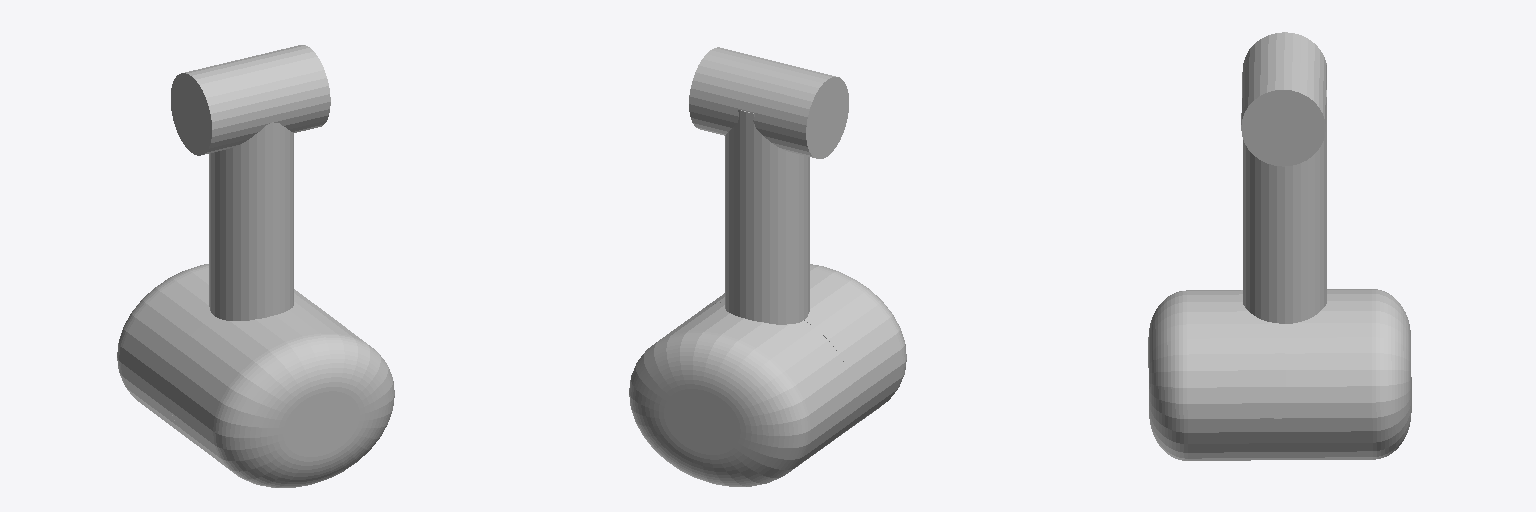
The model's file is block.obj.
The picture shows the model from 3 angles: view 1: azimuth 30°, elevation 25°; view 2: azimuth 150°, elevation 25°; view 3: azimuth 270°, elevation 25°; orthographic projection.
Parts seen in each view (by area): view 1: Cylinder; view 2: Cylinder; view 3: Cylinder.
Part boxes in pixels (x1,y1,x2,y2): Cylinder: (117, 45, 394, 487); Cylinder: (629, 47, 906, 486); Cylinder: (1148, 32, 1411, 460).
Size of the model in its own units: 3 by 6.22 by 3.83.